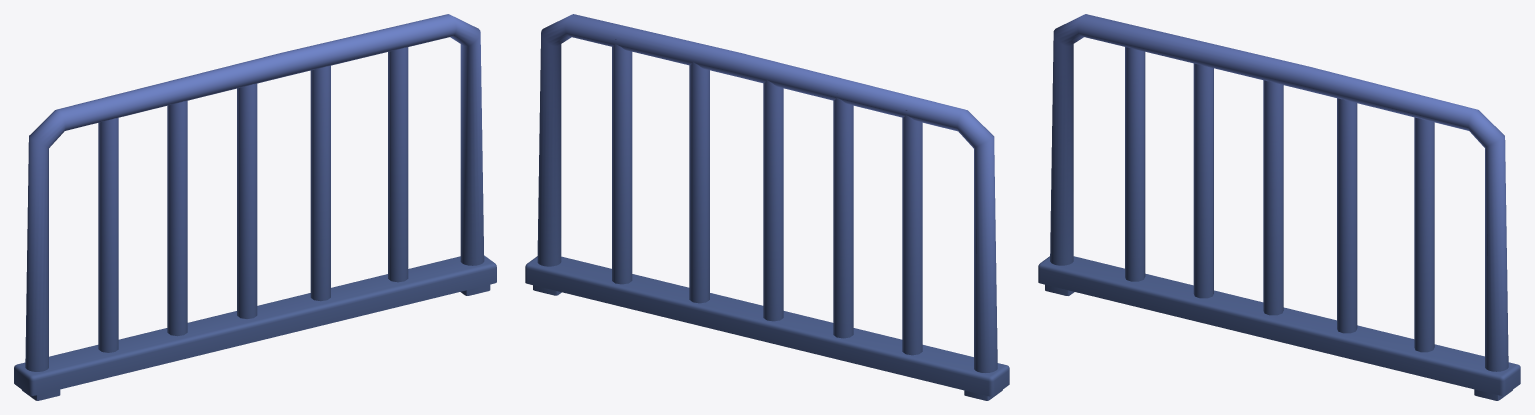
Rendered from MSH_BardaMetal.fbx.
The picture shows the model from 3 angles, left to right: view 1: azimuth 30°, elevation 25°; view 2: azimuth 150°, elevation 25°; view 3: azimuth 330°, elevation 25°; orthographic projection.
Parts seen in each view (by area): view 1: MSH_BardaMetal; view 2: MSH_BardaMetal; view 3: MSH_BardaMetal.
Boxes of the visible parts, x1,y1,x2,y2 form: MSH_BardaMetal: (14,14,496,400); MSH_BardaMetal: (525,14,1009,400); MSH_BardaMetal: (1038,14,1520,400).
Bounding box in the file's own units: 116 × 66.13 × 8.11.
